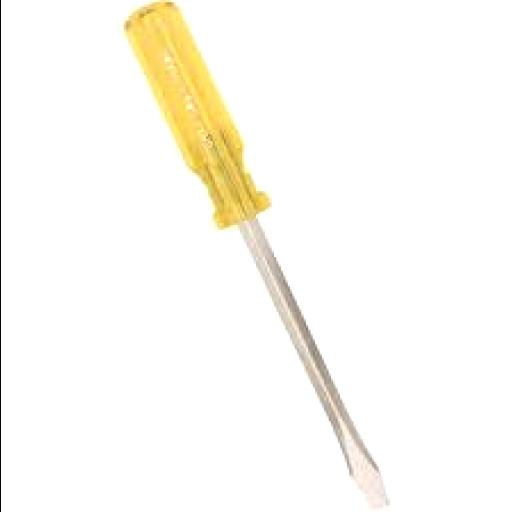screwdriver: (125, 0, 386, 512)
